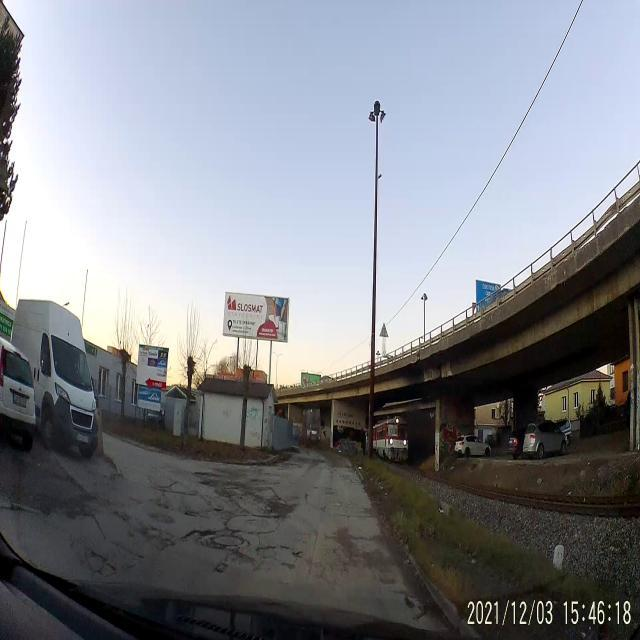Manhole: (148, 508, 176, 526), (215, 532, 242, 548), (246, 516, 269, 530)
Pothole: (264, 494, 296, 526), (186, 524, 218, 552), (184, 508, 202, 521), (212, 502, 224, 515)
